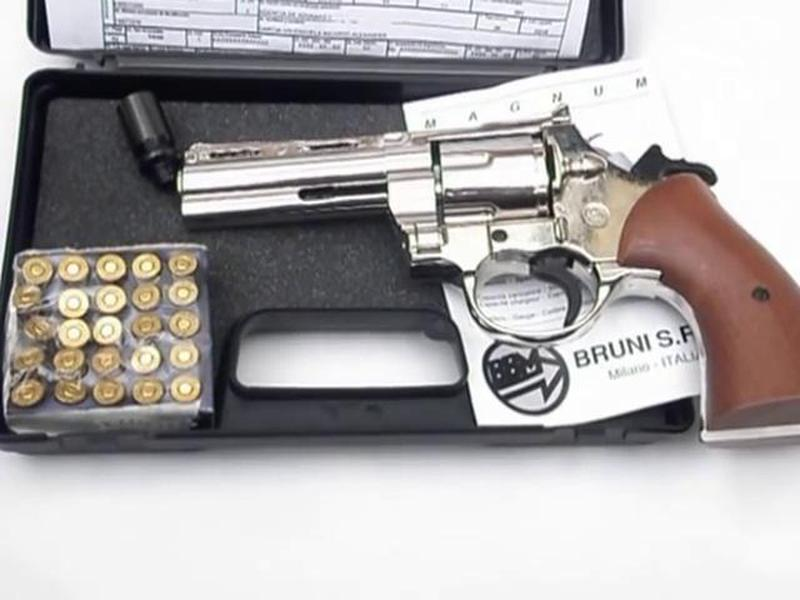Revolver: (175, 103, 799, 371)
